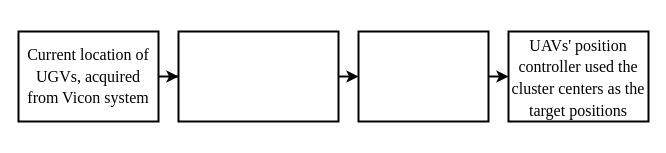
Image size: 666x153. Some labels were removed from this diagram. The box of each missing label's shape, as (x1, y1, x2, y2) in pixels:
K-means clustering algorithm is applied on the location data: (177, 30, 339, 122)
Location of the cluster centers are acquired: (357, 30, 489, 122)
